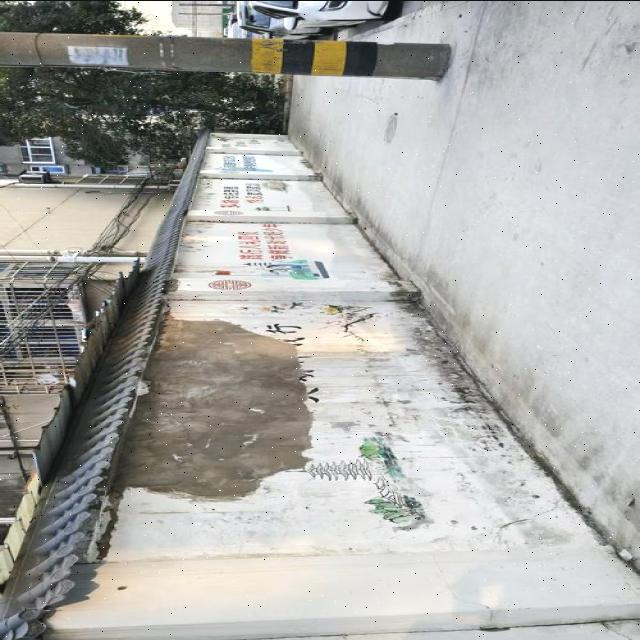water accumulation: (108, 319, 312, 498)
